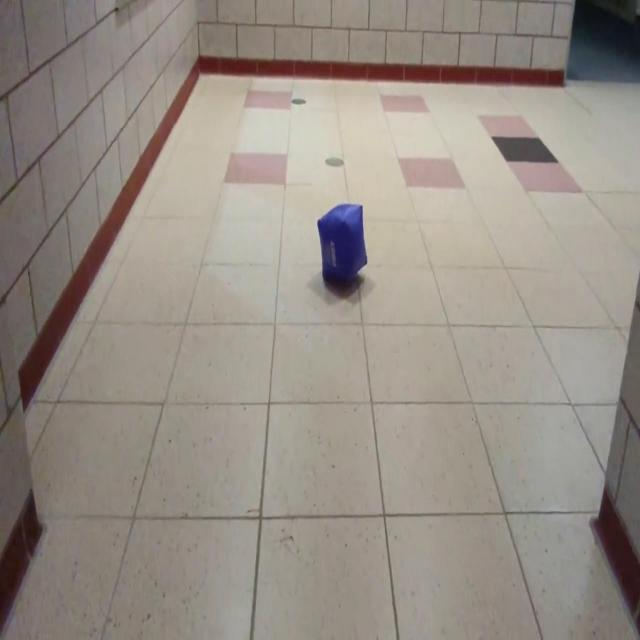frc_cube: (318, 204, 368, 288)
